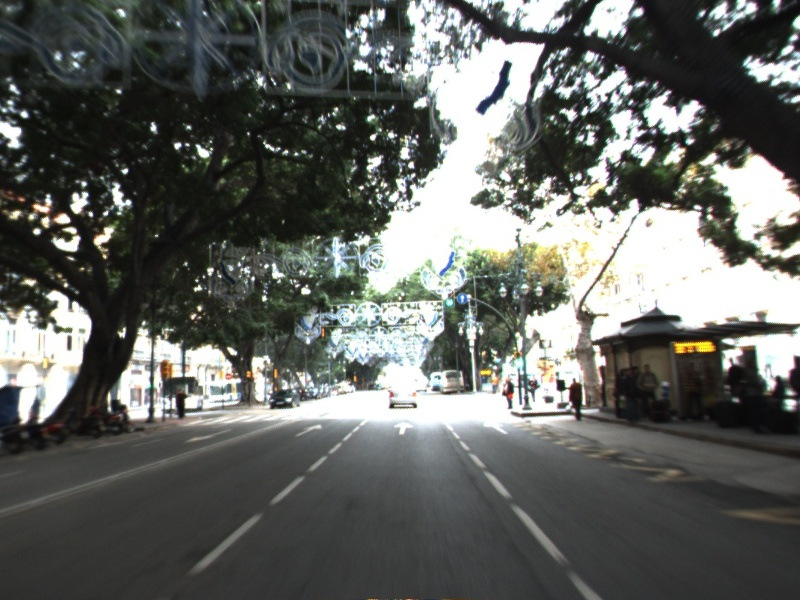STRAIGHT: (292, 421, 325, 439), (481, 418, 513, 436), (391, 419, 416, 436)
